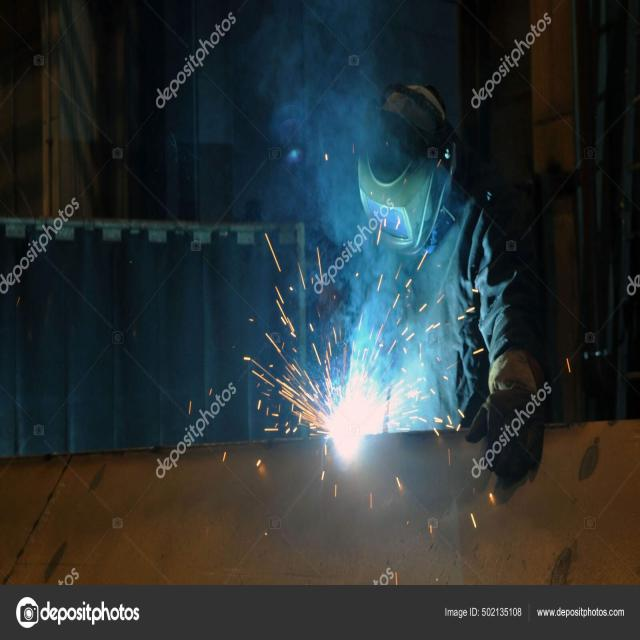welding: (329, 402, 364, 461)
